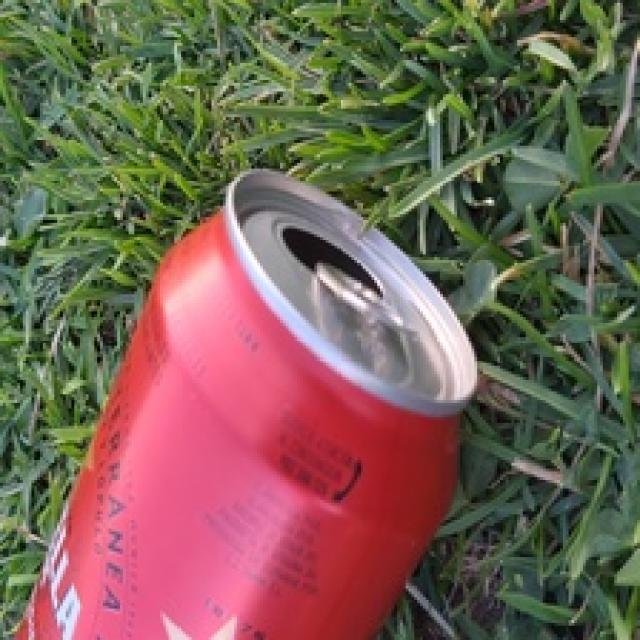recyclable: (14, 165, 479, 640)
